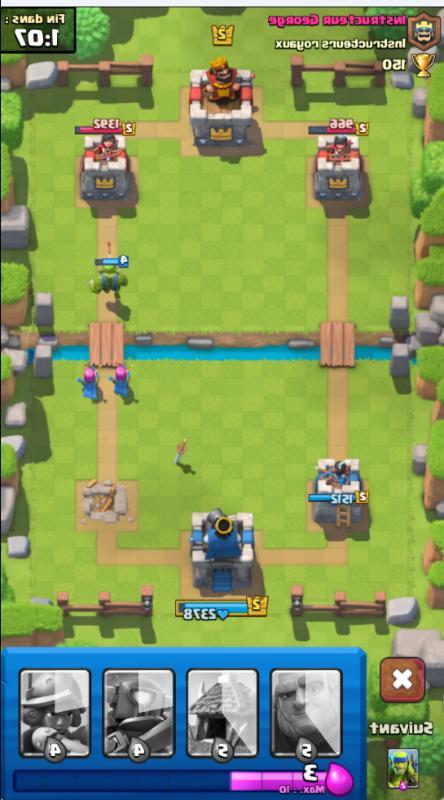player_archers: (73, 357, 104, 400), (107, 357, 138, 400)
player_caged_goblin: (84, 246, 139, 305)
